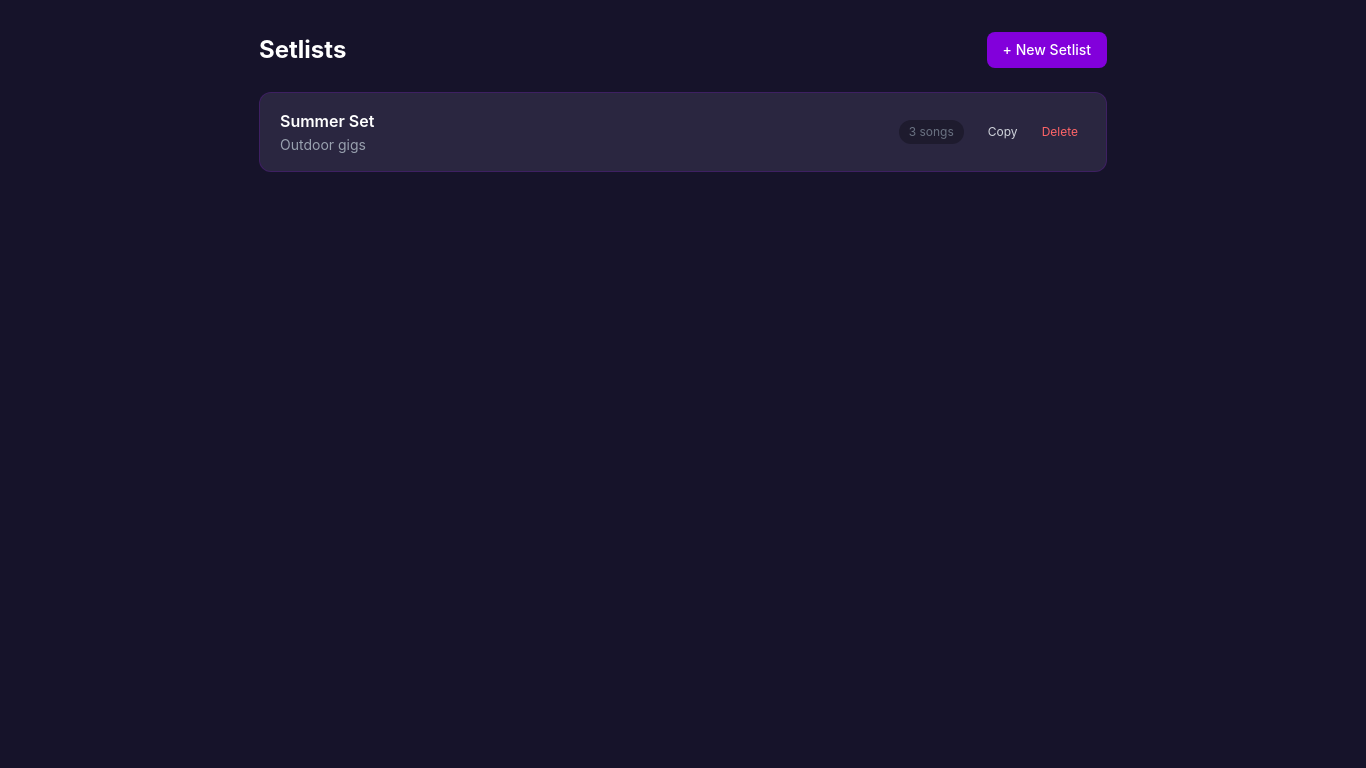
PlaylistListPage copy (#2) › requires a name in the copy modal
Check: the link "Summer Set" is shown, box [280, 111, 374, 131]
Click the button "Copy": x=1003, y=132 [980, 120, 1026, 144]
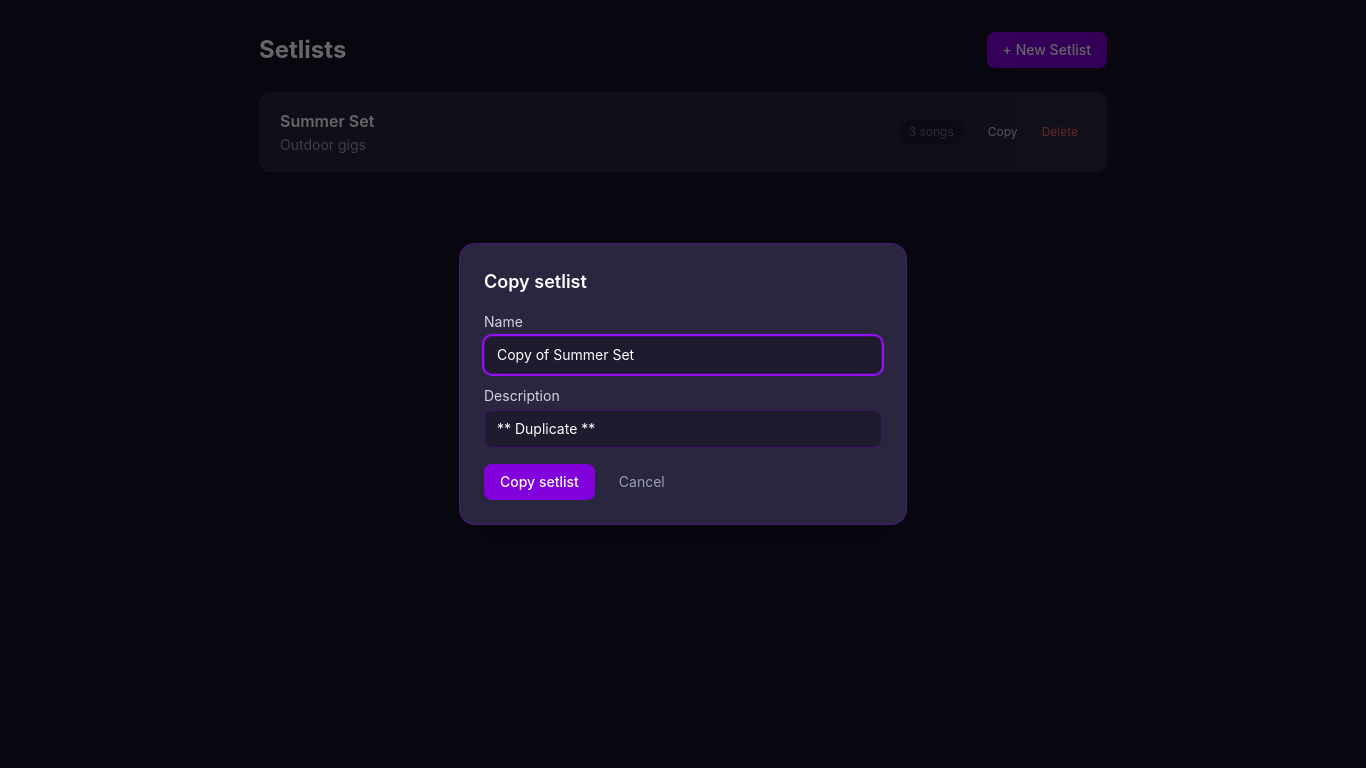
Clear the field named "new setlist name": x=683, y=355 [484, 336, 882, 374]
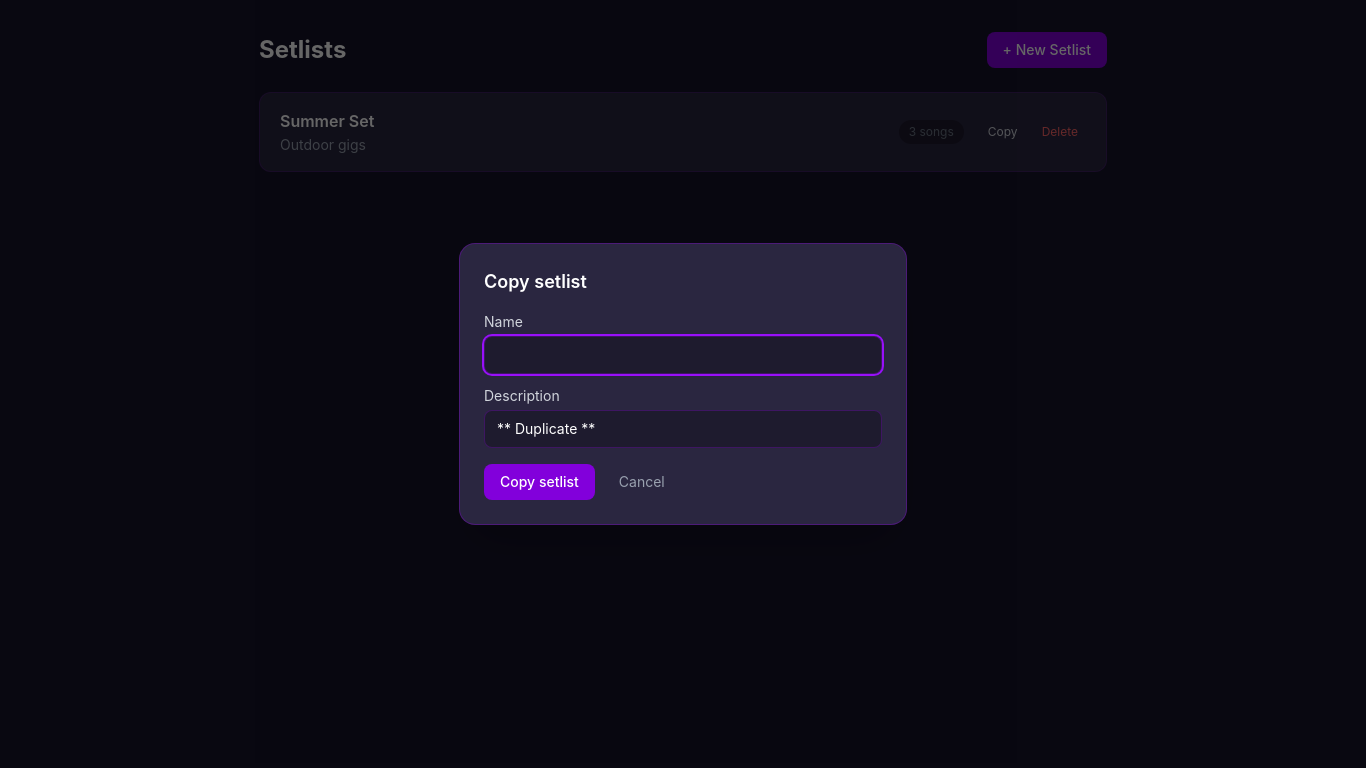
Click the button "Copy setlist": x=539, y=482 [484, 464, 595, 500]
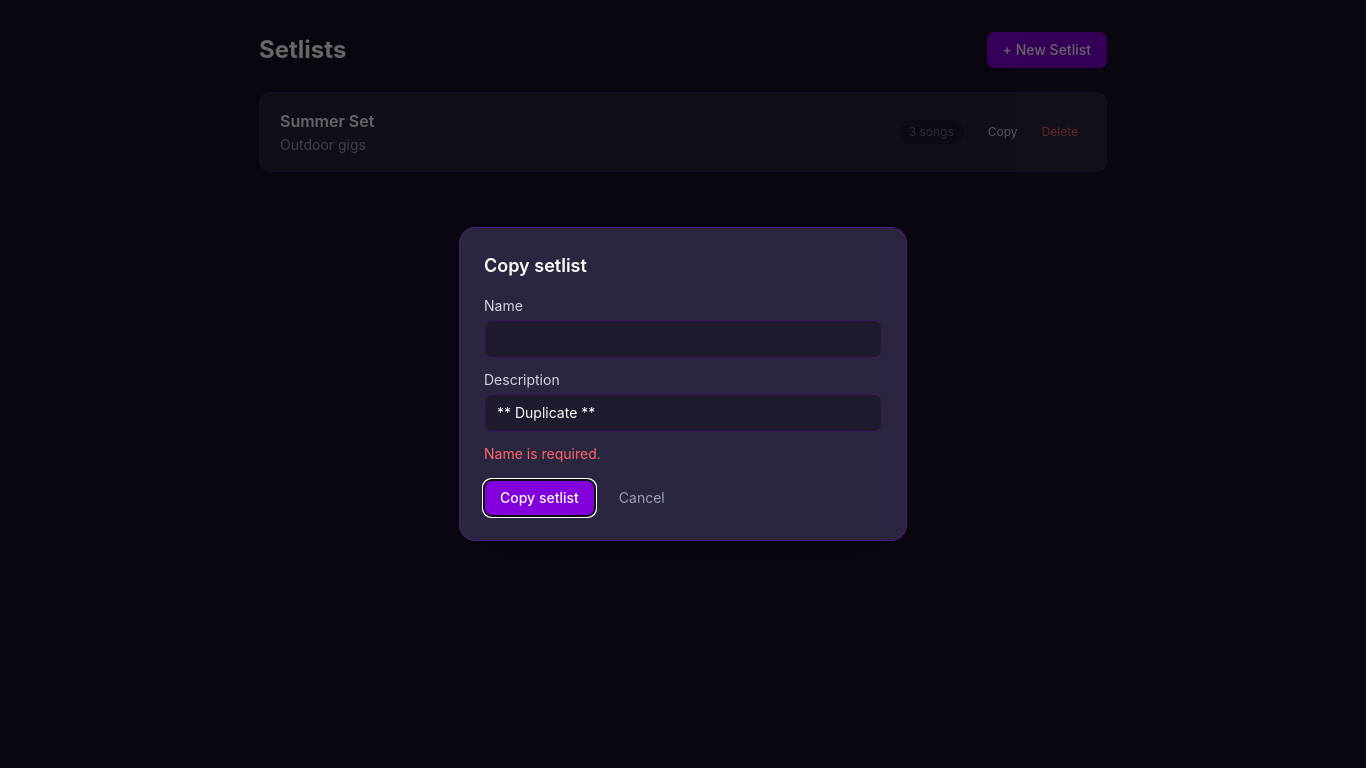
Check: the text "Name is required." is shown, box [484, 445, 601, 462]
